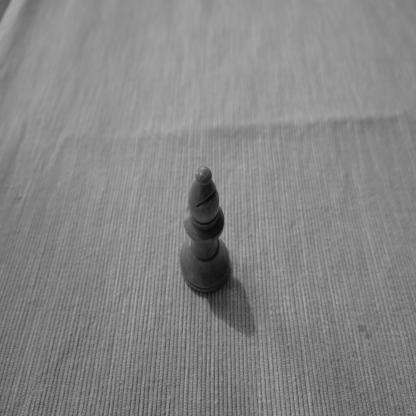white-bishop: (178, 164, 230, 295)
